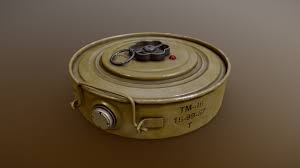car: (55, 21, 245, 149)
